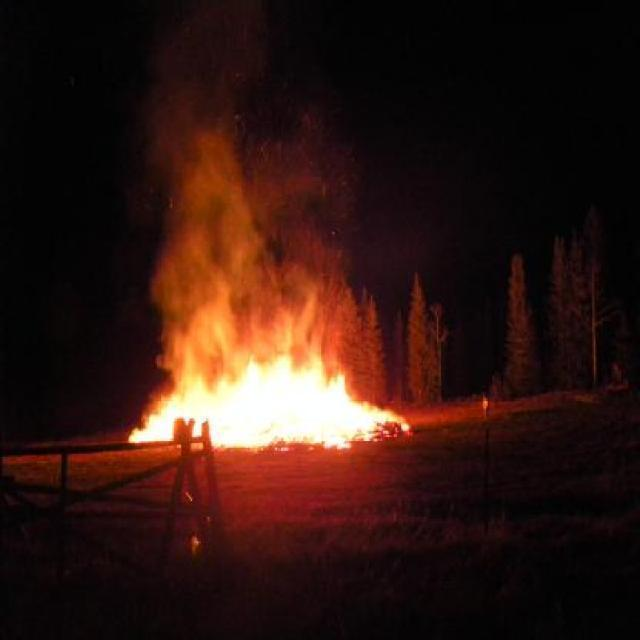Fire: (124, 356, 408, 448)
Smoke: (153, 128, 354, 354)
